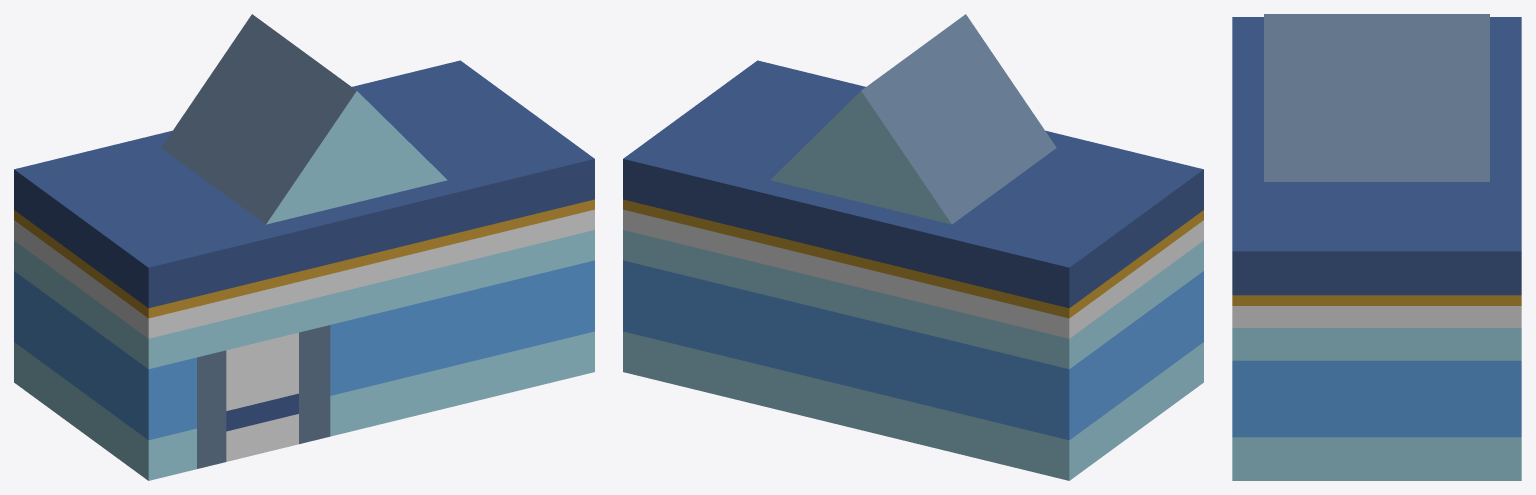
File: xConvenienceStore.fbx
3 views of the same model, side by side, from view 1: azimuth 30°, elevation 25°; view 2: azimuth 150°, elevation 25°; view 3: azimuth 270°, elevation 25° (orthographic). The views are drawn at different scales.
Parts seen in each view (by area): view 1: Cube.017; view 2: Cube.017; view 3: Cube.017.
Part boxes in pixels (left/top/right/bottom): Cube.017: left=14, top=14, right=594, bottom=480; Cube.017: left=623, top=14, right=1203, bottom=480; Cube.017: left=1232, top=14, right=1521, bottom=480.
Bounding box in the file's own units: 4600 × 3200 × 2400.
